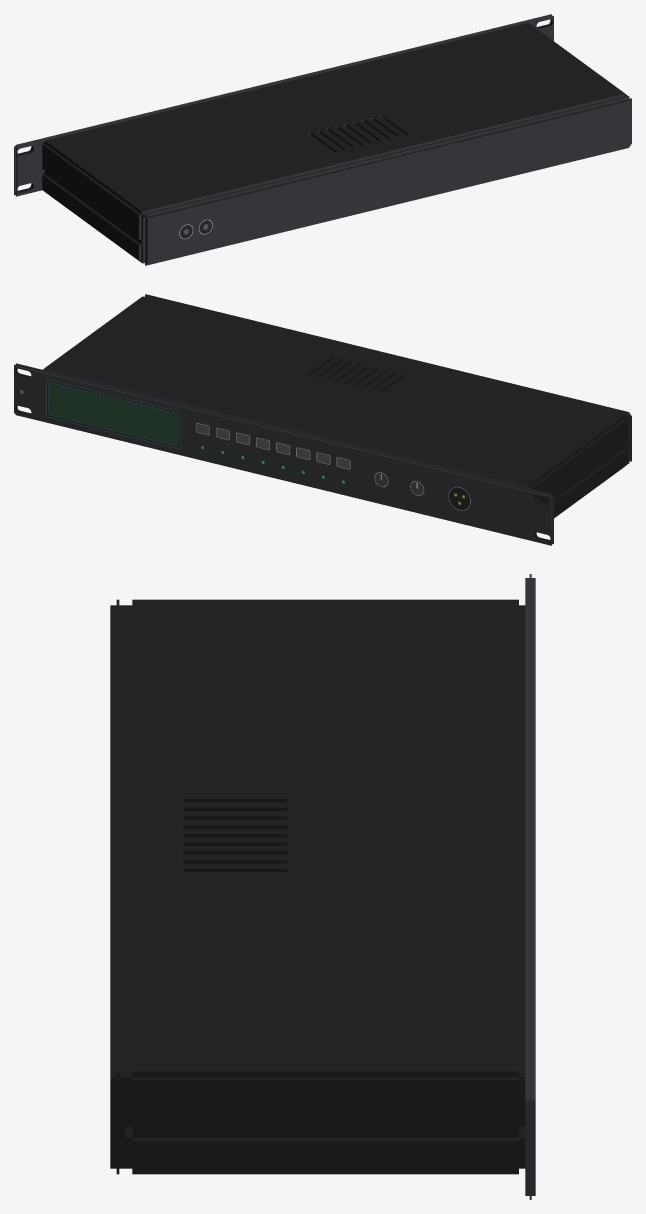
The model's file is clear-com-ms-702.glb.
3 renders of one model, top to bottom at view 1: azimuth 30°, elevation 25°; view 2: azimuth 150°, elevation 25°; view 3: azimuth 270°, elevation 25°, orthographic. The views are drawn at different scales.
Visible parts, largest first — view 1: clear-com-ms-702-body; view 2: clear-com-ms-702-body; view 3: clear-com-ms-702-body.
Boxes of the visible parts, <box> form: clear-com-ms-702-body: <box>14,14,631,265</box>; clear-com-ms-702-body: <box>14,294,631,545</box>; clear-com-ms-702-body: <box>110,574,535,1199</box>.
Size of the model in its own units: 0.483 by 0.044 by 0.165.
Materials: 1 (1 with a texture image).
